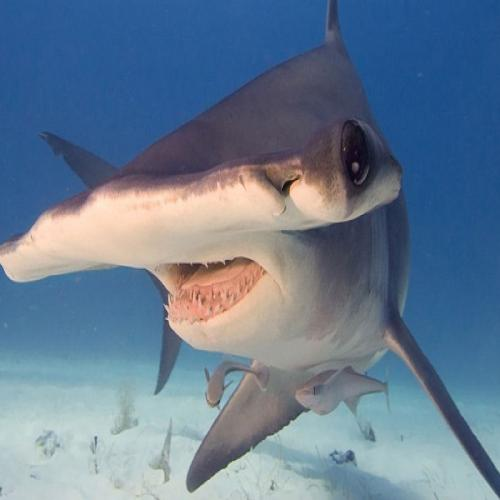shark-endangered: (15, 18, 489, 477)
